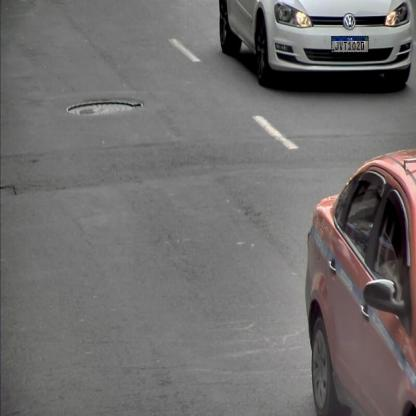PlacaM: (331, 36, 369, 53)
